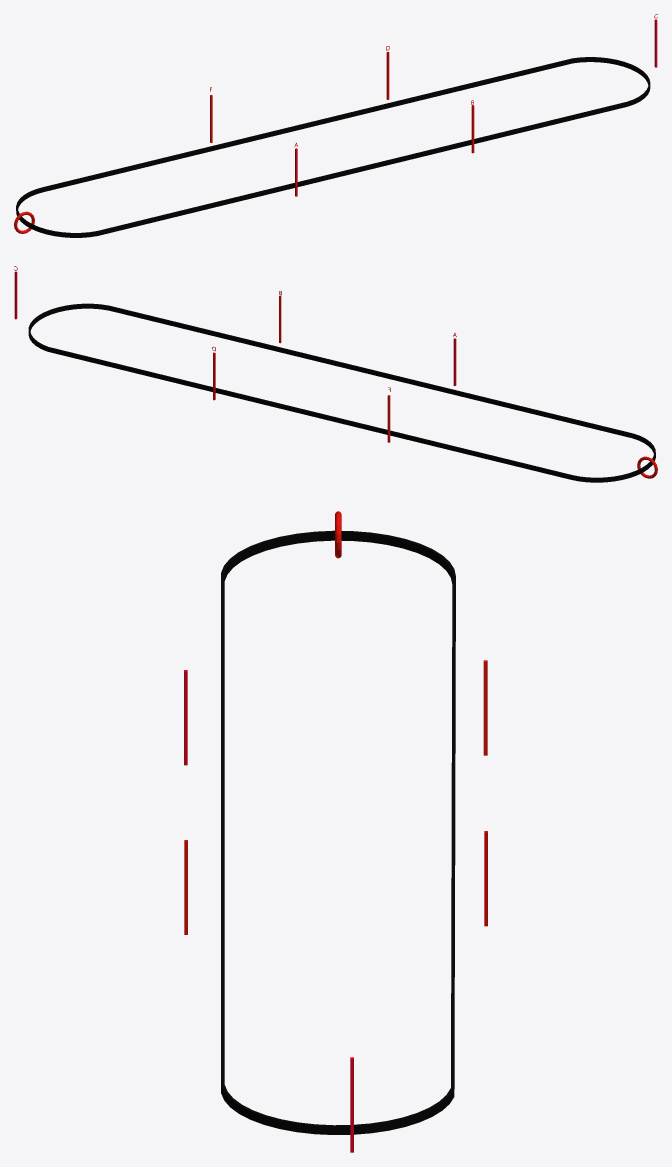
File: Canvaer.glb
3 renders of one model, top to bottom at view 1: azimuth 30°, elevation 25°; view 2: azimuth 150°, elevation 25°; view 3: azimuth 270°, elevation 25°, orthographic. The views are drawn at different scales.
Visible parts, largest first — view 1: Canvaers; view 2: Canvaers; view 3: Canvaers.
Boxes of the visible parts, x1=… form: Canvaers: x1=16, y1=57, x2=650, y2=237; Canvaers: x1=28, y1=303, x2=655, y2=482; Canvaers: x1=221, y1=530, x2=455, y2=1134.
Bounding box in the file's own units: 315 × 29.9 × 64.66.
